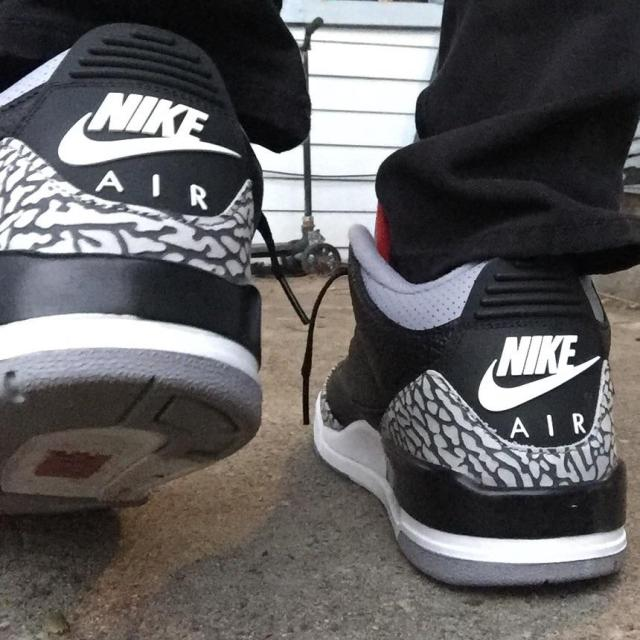shoe: (0, 21, 268, 522), (312, 227, 630, 589)
